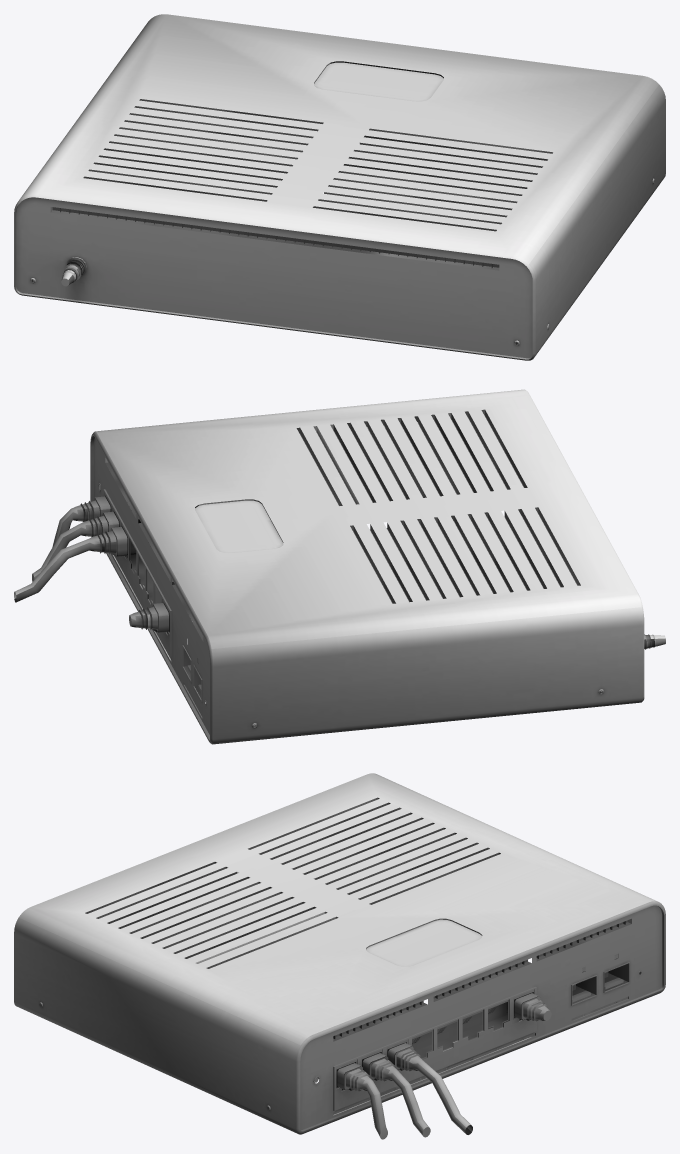
Rendered from switch.glb.
3 renders of one model, top to bottom at view 1: azimuth 30°, elevation 25°; view 2: azimuth 150°, elevation 25°; view 3: azimuth 270°, elevation 25°, orthographic. The views are drawn at different scales.
Visible parts, largest first — view 1: chassis, fittings; view 2: chassis, fittings, poke_cable_hit, lights; view 3: chassis, fittings, poke_cable_hit, lights.
Boxes of the visible parts, x1,y1,x2,y2 form: chassis: [14, 14, 665, 360]; fittings: [31, 99, 654, 344]; chassis: [90, 389, 644, 744]; fittings: [32, 409, 665, 726]; poke_cable_hit: [14, 527, 136, 602]; lights: [95, 486, 198, 662]; chassis: [14, 773, 665, 1134]; fittings: [39, 797, 639, 1139]; poke_cable_hit: [380, 1043, 472, 1134]; lights: [314, 954, 617, 1090].
Size of what is drawn, in the model's own units: 0.6403 by 0.11 by 0.6446.
4 materials, 4 textured.
